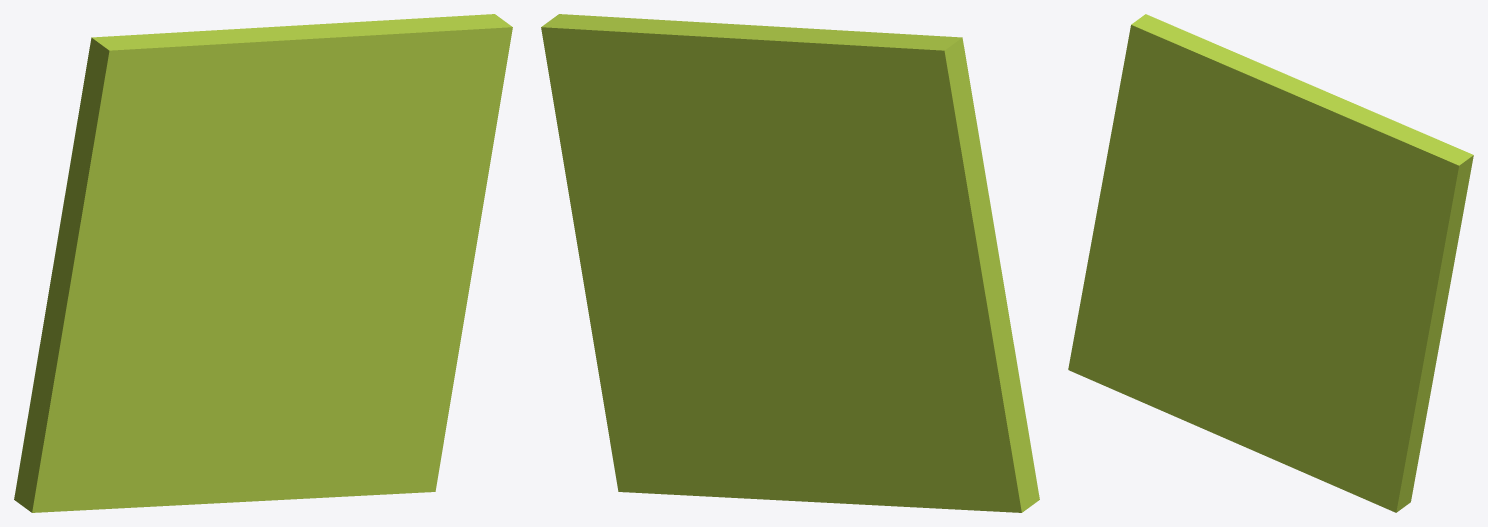
3 views of the same model, side by side, from view 1: azimuth 30°, elevation 25°; view 2: azimuth 150°, elevation 25°; view 3: azimuth 330°, elevation 25° (orthographic). The views are drawn at different scales.
Parts seen in each view (by area): view 1: osm-way27917482-F2; view 2: osm-way27917482-F2; view 3: osm-way27917482-F2.
Boxes of the visible parts, left/top/right/bottom form: osm-way27917482-F2: left=14, top=14, right=512, bottom=512; osm-way27917482-F2: left=541, top=14, right=1039, bottom=512; osm-way27917482-F2: left=1068, top=14, right=1473, bottom=512.
Size of the model in its own units: 2.31 by 2.39 by 0.15.
